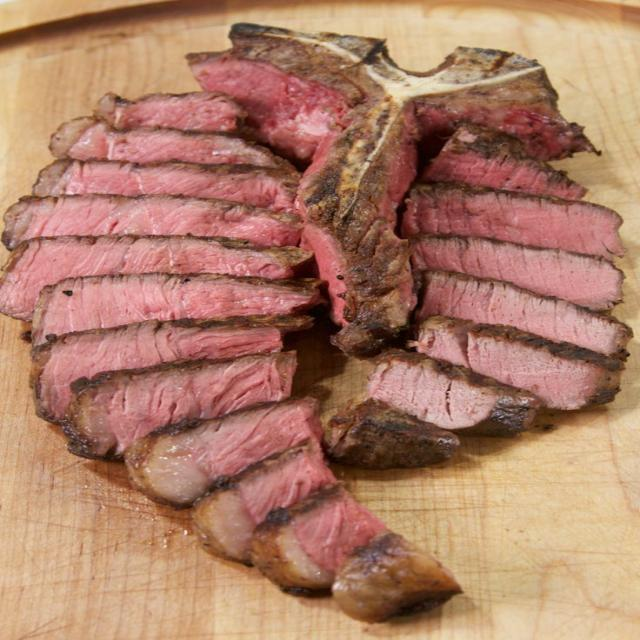beef steak: (188, 24, 594, 356), (230, 25, 549, 355), (32, 316, 312, 423), (0, 235, 312, 320), (63, 352, 296, 457), (125, 398, 322, 507), (32, 274, 321, 345), (408, 316, 623, 410), (412, 317, 623, 409), (416, 270, 631, 358), (193, 439, 334, 564), (402, 184, 623, 259), (2, 195, 301, 249), (412, 234, 624, 310), (250, 481, 388, 594), (368, 350, 541, 433), (34, 161, 298, 211), (51, 118, 292, 170), (420, 124, 586, 199), (332, 533, 461, 622), (417, 95, 594, 159), (325, 399, 458, 469), (95, 92, 246, 131), (335, 581, 457, 620)
